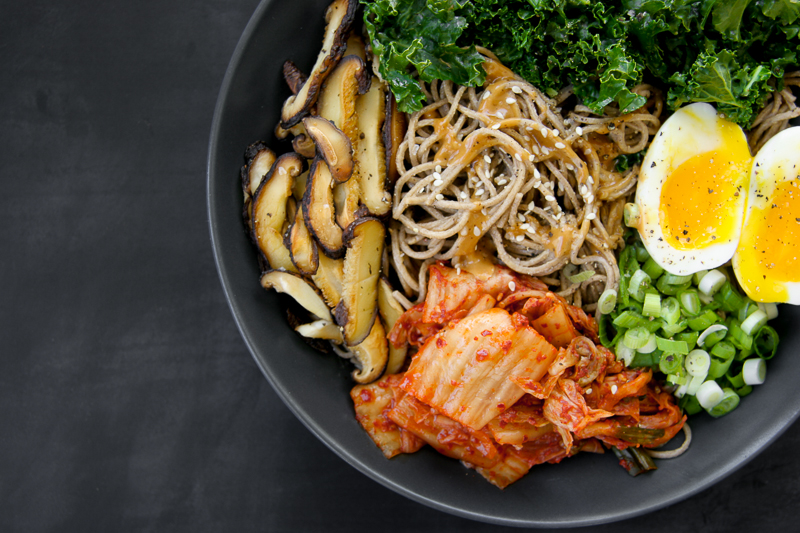Soba: (379, 63, 651, 312)
